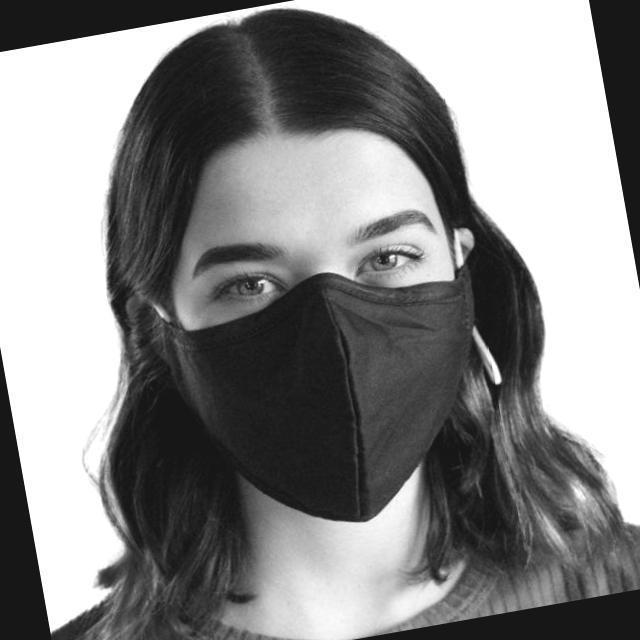no_gloves: (116, 10, 541, 212)
